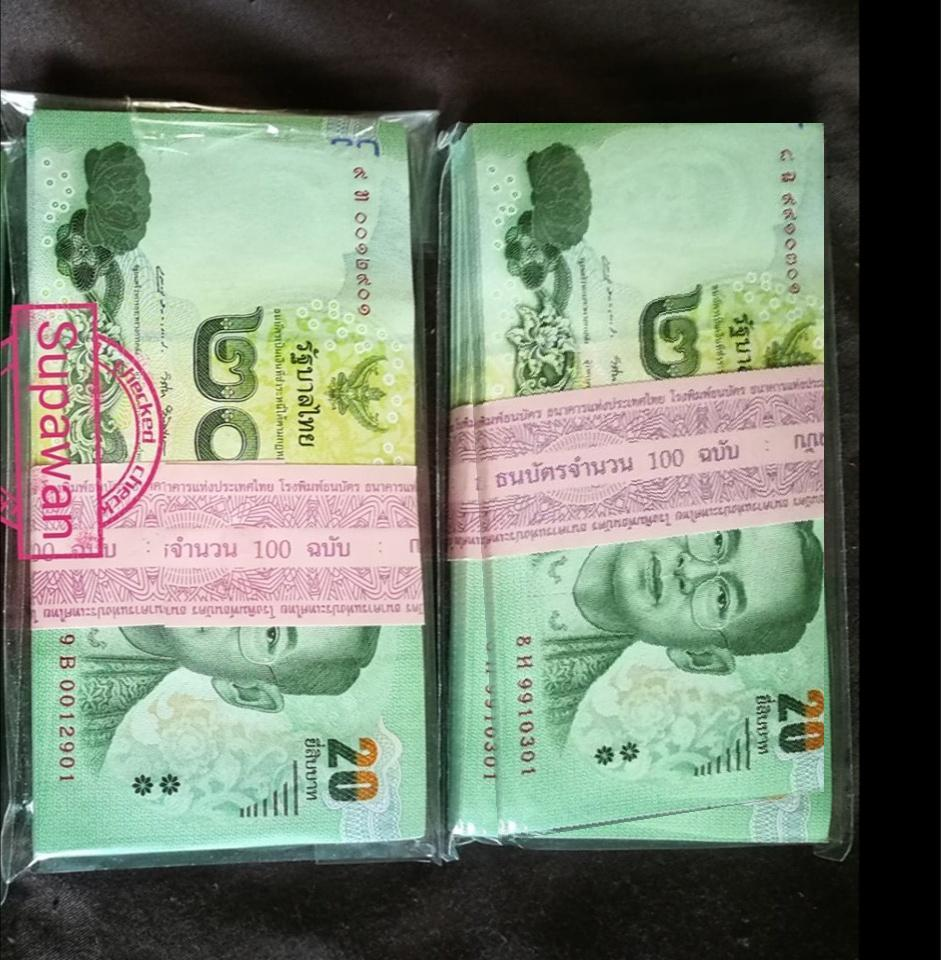20BahtTai: (457, 123, 825, 842)
